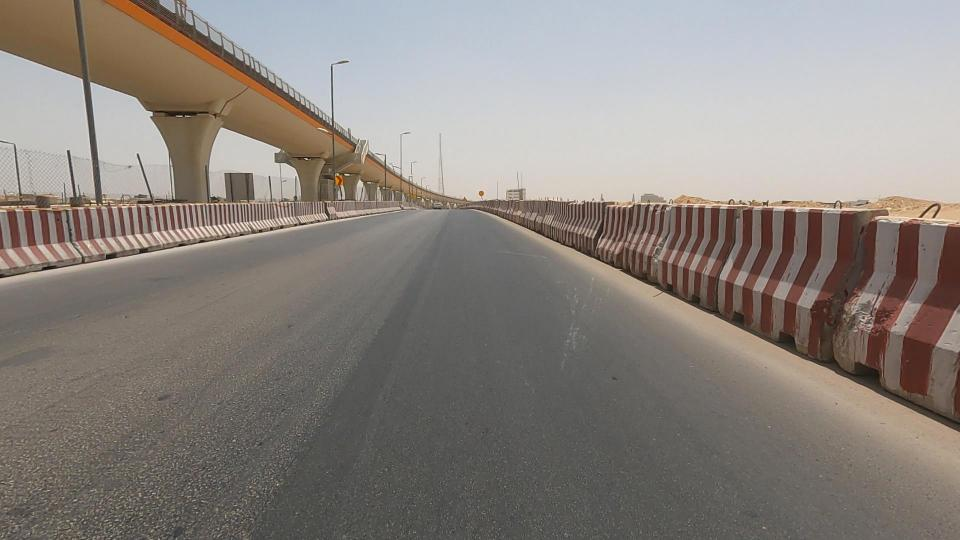CONSTRUCTION_ROAD: (505, 109, 960, 413), (0, 126, 199, 311), (453, 153, 642, 275), (115, 157, 281, 273), (218, 172, 360, 259)
